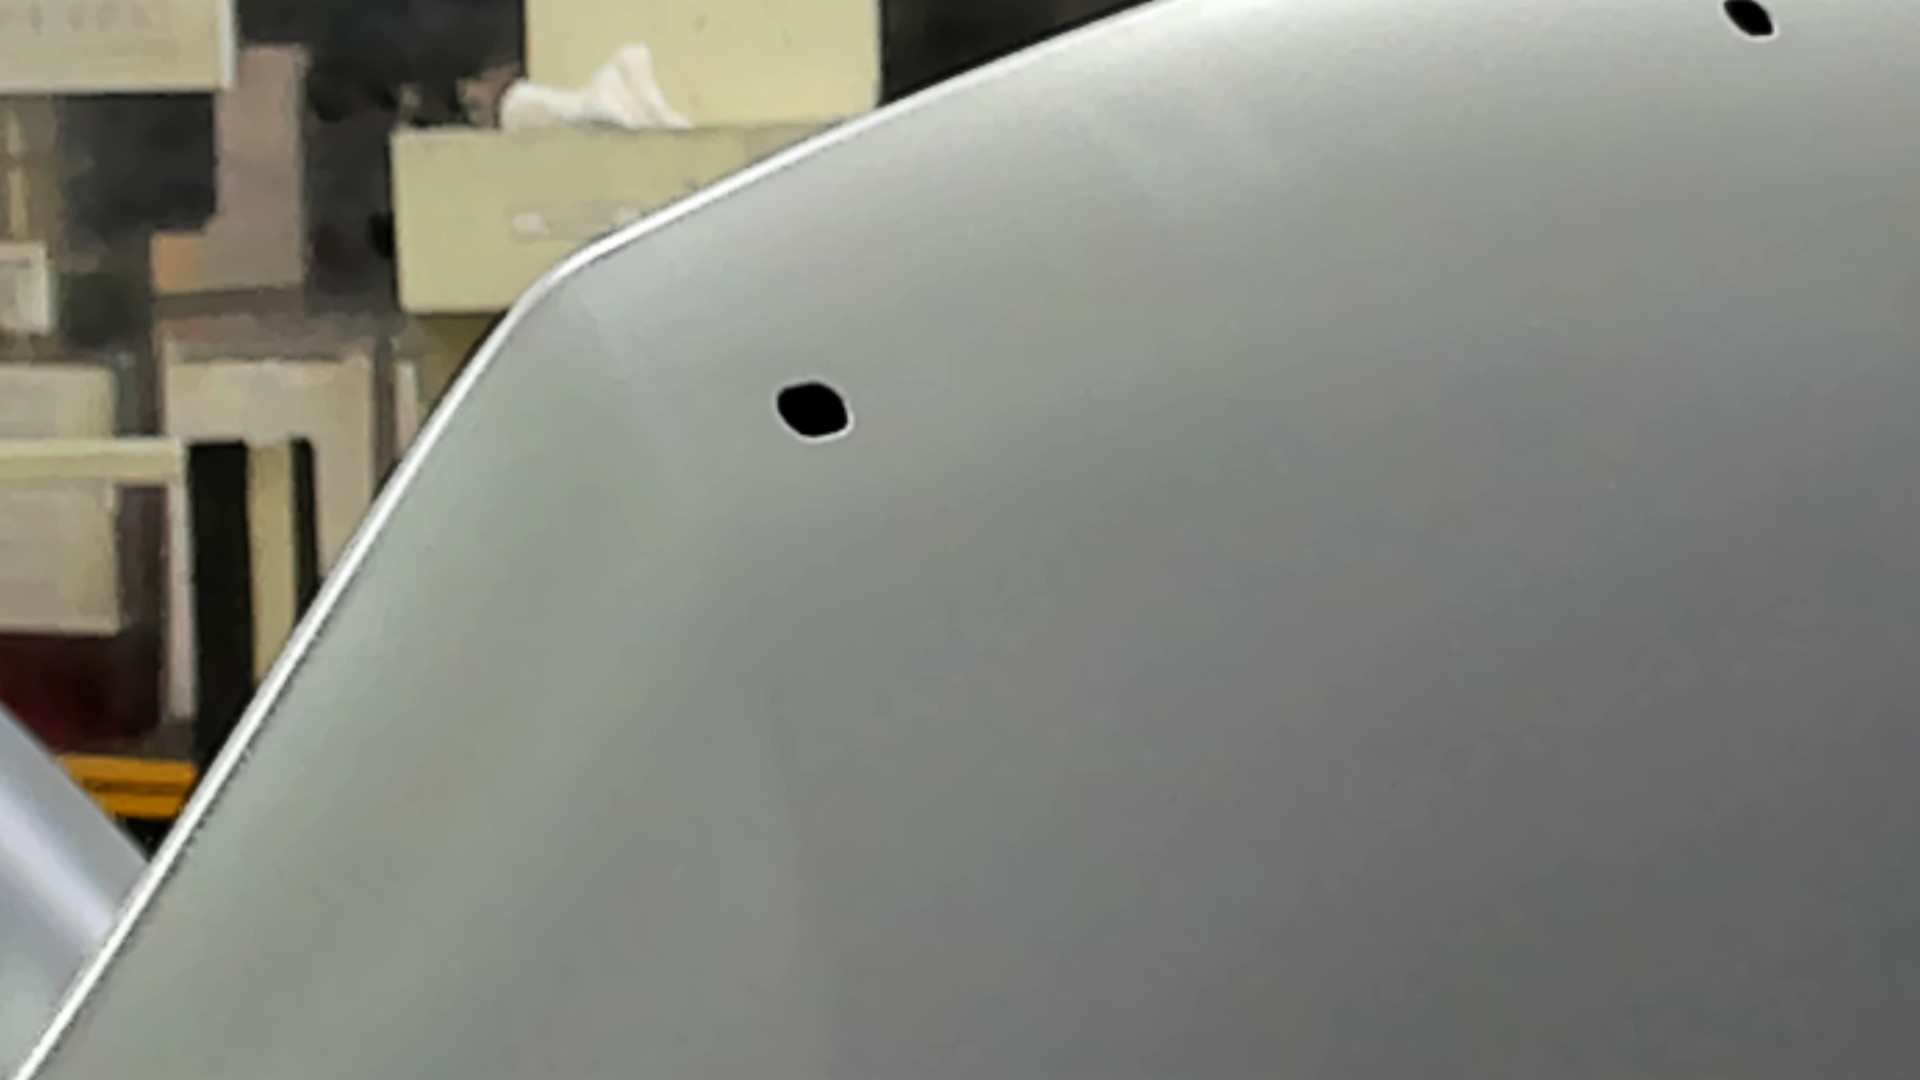amorfo: (773, 377, 860, 444), (1721, 1, 1783, 44)
